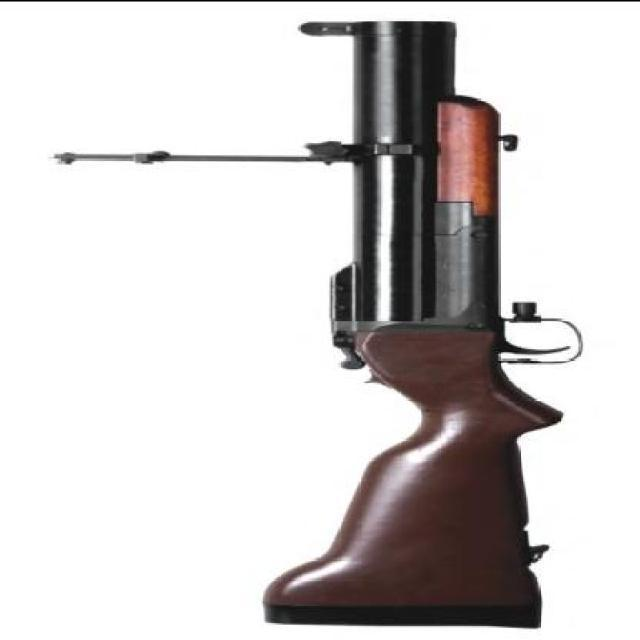weapon: (48, 19, 582, 628)
